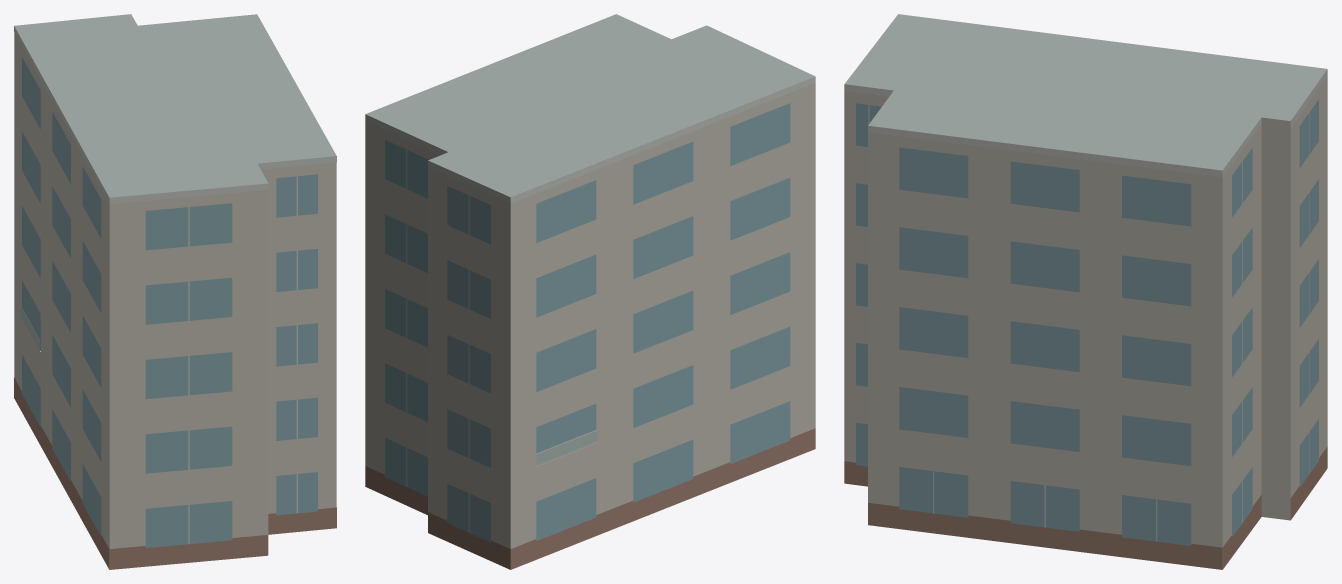
File: survey-upis-33021785.glb
3 renders of one model, left to right at view 1: azimuth 30°, elevation 25°; view 2: azimuth 150°, elevation 25°; view 3: azimuth 270°, elevation 25°, orthographic. The views are drawn at different scales.
Visible parts, largest first — view 1: survey-upis-33021785.tmp; view 2: survey-upis-33021785.tmp; view 3: survey-upis-33021785.tmp.
Boxes of the visible parts, x1,y1,x2,y2 form: survey-upis-33021785.tmp: (14, 14, 336, 569); survey-upis-33021785.tmp: (365, 14, 815, 569); survey-upis-33021785.tmp: (844, 14, 1327, 569).
Bounding box in the file's own units: 12.36 × 14.7 × 16.13.
